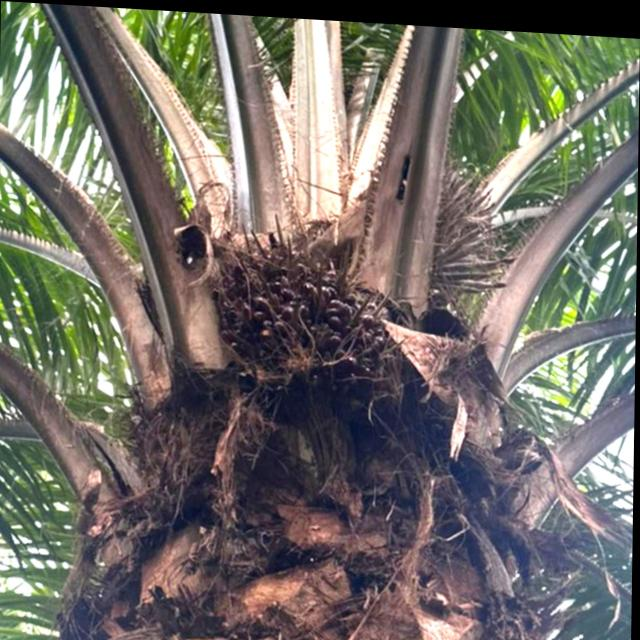ripe: (198, 198, 387, 401)
